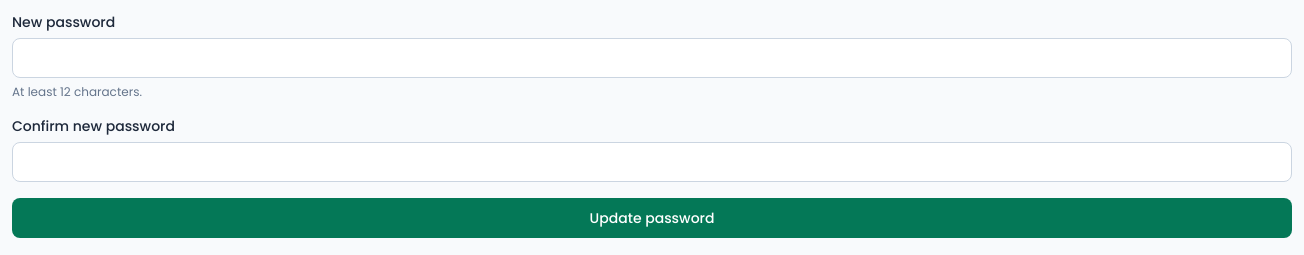
Scenario: ResetPasswordForm › replaces the form with a confirmation and a login link on success
In the password field labelled "New password": (652, 58) [12,38,1292,78], type "a-brand-new-password"
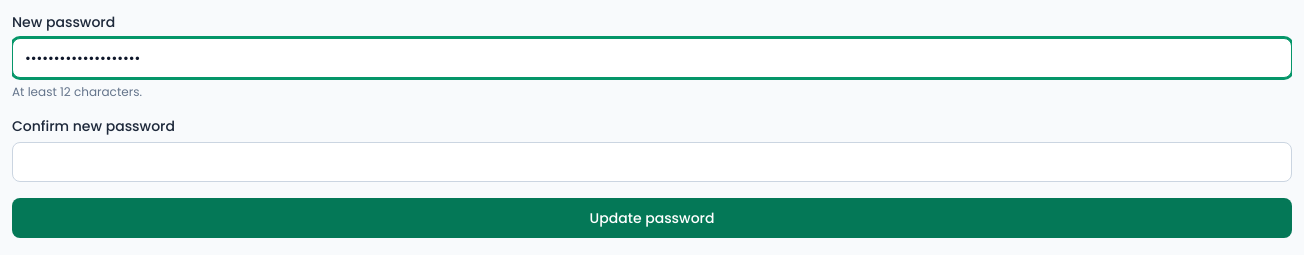
In the password field labelled "Confirm new password": (652, 162) [12,142,1292,182], type "a-brand-new-password"
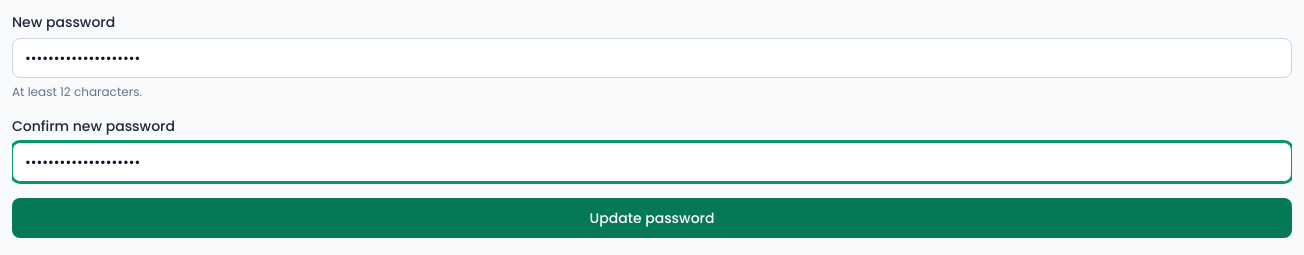
Click the button "Update password": (652, 218) [12,198,1292,238]
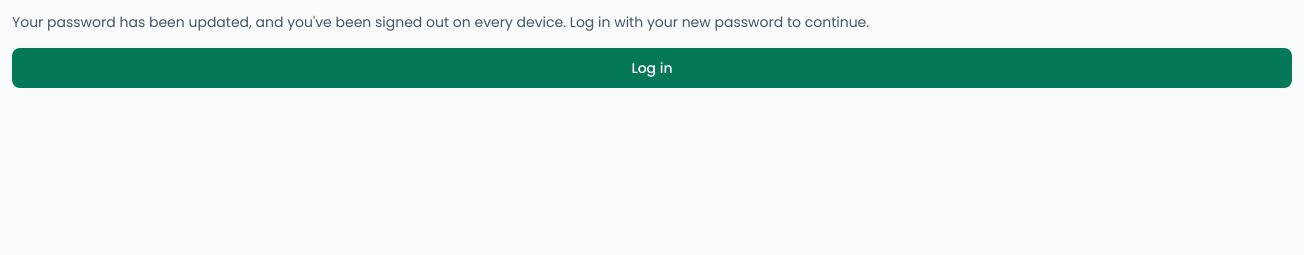
Result: the message shows "signed out on every device" at [12,12,869,32]
Result: the password field labelled "New password" is gone
